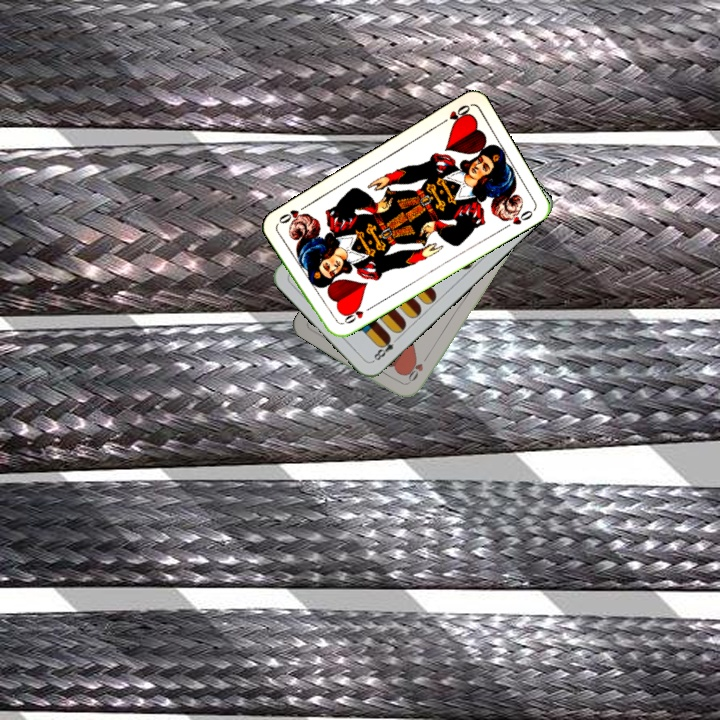E8: (368, 332, 402, 364)
HO: (335, 301, 374, 328), (403, 350, 431, 386), (436, 101, 473, 127)
